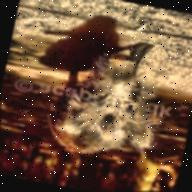boar: (41, 28, 176, 170)
